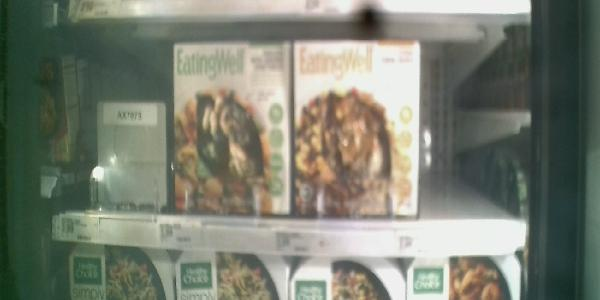pizza1: (294, 32, 420, 218), (173, 33, 290, 221)
